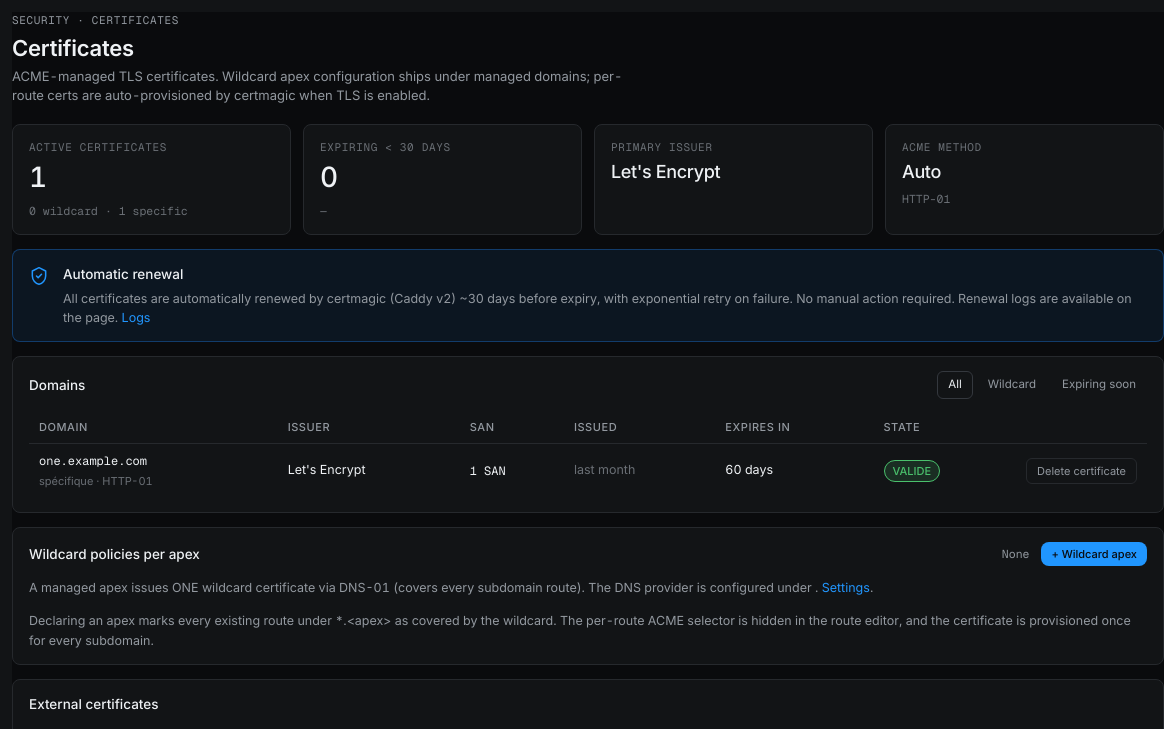
it: /certs — Domaines tabs (T.4) › per-tab empty state surfaces when the active filter yields zero rows
Expected: the table with test id "certs-table" is shown, [29,411,1147,498]
Step 1. Click the tab with test id "tab-wildcard" → (1012,385), box [977,371,1047,399]
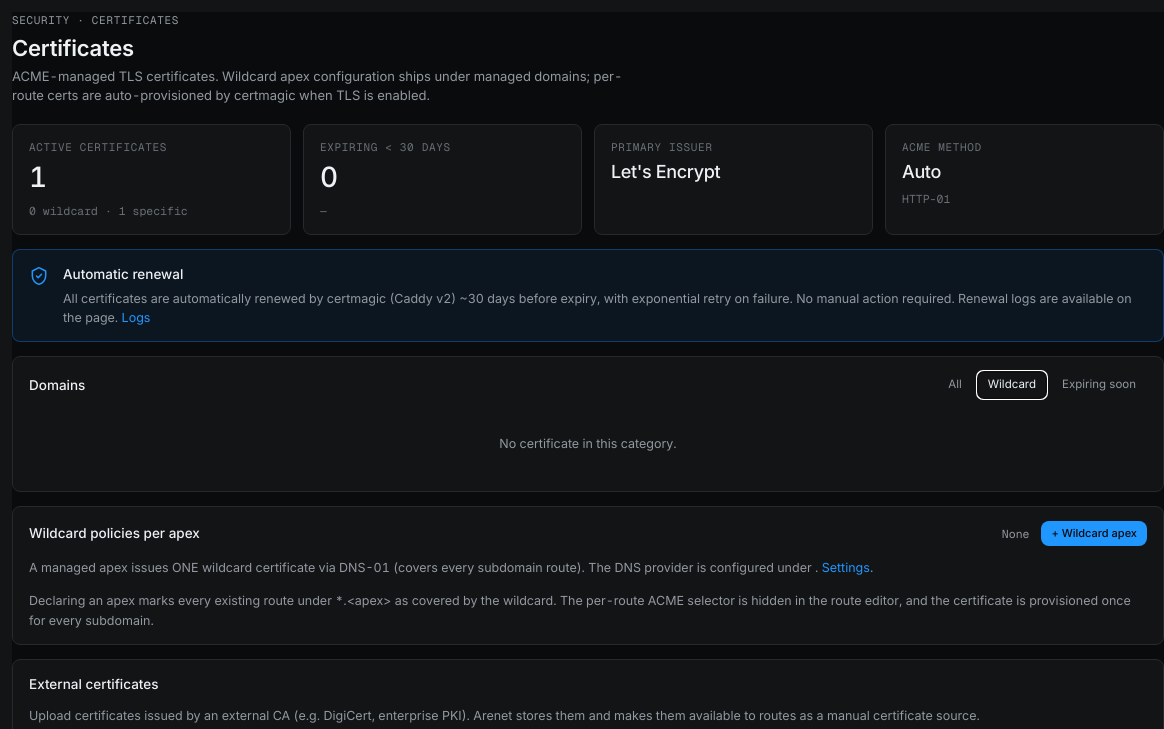
Result: the text "No certificate in this category." is shown at [499,436,677,451]
